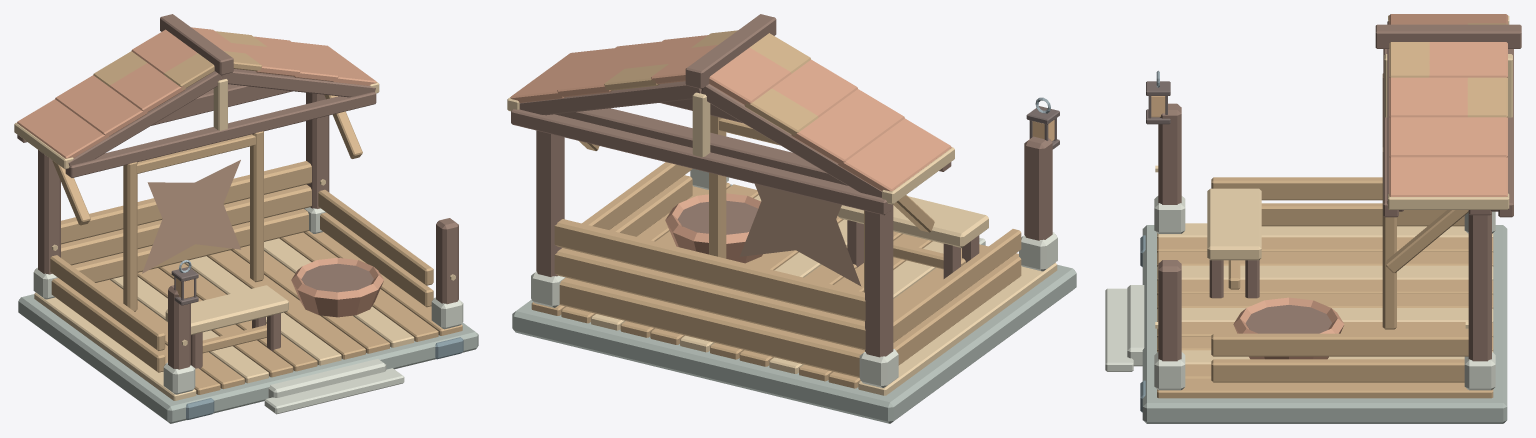
File: tannery.fbx
3 renders of one model, left to right at view 1: azimuth 30°, elevation 25°; view 2: azimuth 150°, elevation 25°; view 3: azimuth 270°, elevation 25°, orthographic. The views are drawn at different scales.
Parts seen in each view (by area): view 1: tannery_mesh; view 2: tannery_mesh; view 3: tannery_mesh.
Part boxes in pixels (x1,y1,x2,y2): tannery_mesh: [14, 14, 478, 423]; tannery_mesh: [507, 14, 1076, 423]; tannery_mesh: [1105, 14, 1521, 423].
Size of the model in its own units: 3.37 by 2.62 by 3.22.
